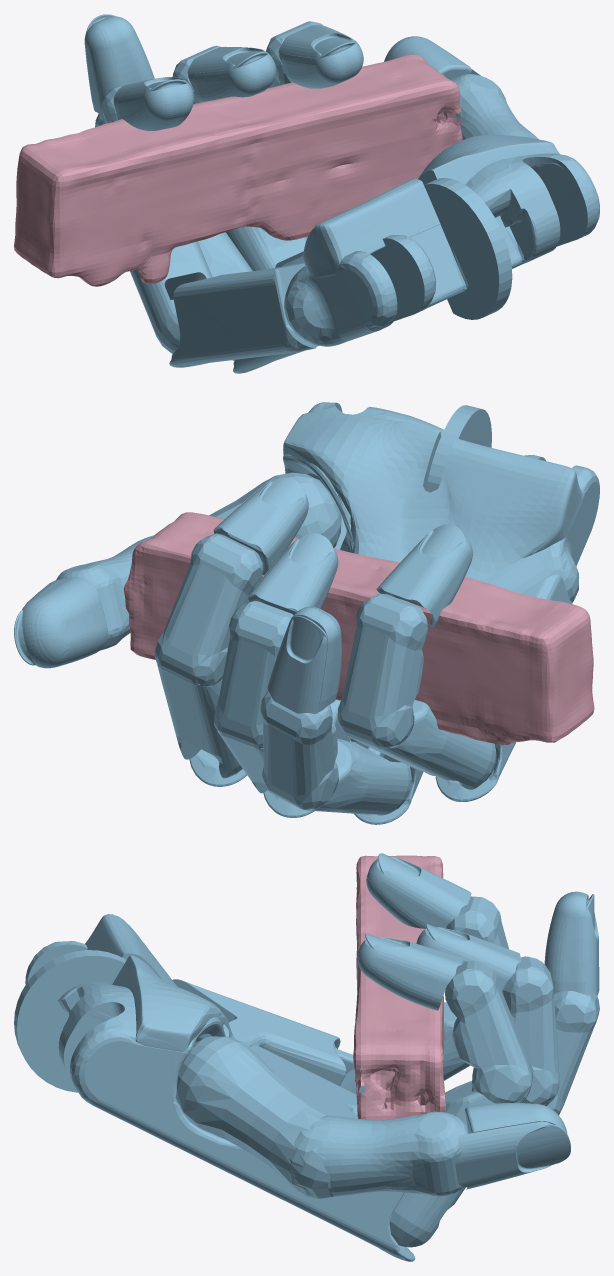
3 renders of one model, top to bottom at view 1: azimuth 30°, elevation 25°; view 2: azimuth 150°, elevation 25°; view 3: azimuth 270°, elevation 25°, orthographic. The views are drawn at different scales.
Visible parts, largest first — view 1: hand, world; view 2: hand, world; view 3: hand, world.
Boxes of the visible parts, x1=… form: hand: x1=84, y1=14, x2=599, y2=373; world: x1=14, y1=54, x2=462, y2=286; hand: x1=14, y1=402, x2=599, y2=824; world: x1=124, y1=512, x2=594, y2=745; hand: x1=14, y1=853, x2=599, y2=1261; world: x1=353, y1=855, x2=446, y2=1120.
Bounding box in the file's own units: 0.1522 × 0.0918 × 0.1568.
